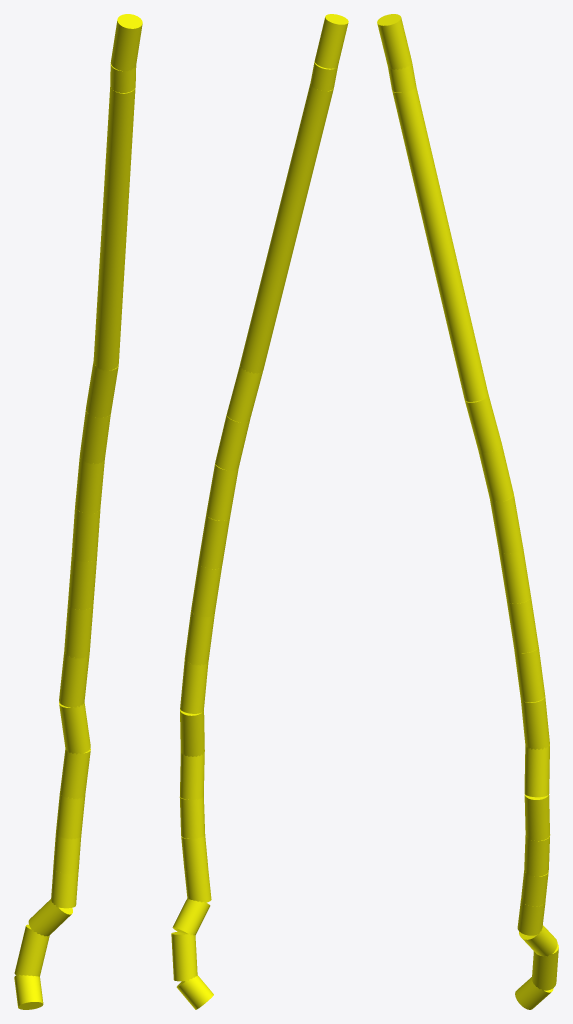
3 views of the same model, side by side, from view 1: azimuth 90°, elevation 25°; view 2: azimuth 150°, elevation 25°; view 3: azimuth 330°, elevation 25° (orthographic). The views are drawn at different scales.
Parts seen in each view (by area): view 1: Cylinder(Clone) (×18); view 2: Cylinder(Clone) (×18); view 3: Cylinder(Clone) (×18).
Part boxes in pixels (x1,y1,x2,y2): Cylinder(Clone) (×18): [14, 14, 142, 1009]; Cylinder(Clone) (×18): [171, 14, 348, 1009]; Cylinder(Clone) (×18): [377, 14, 558, 1009].
Bounding box in the file's own units: 0.0671 × 0.4473 × 0.0501.
